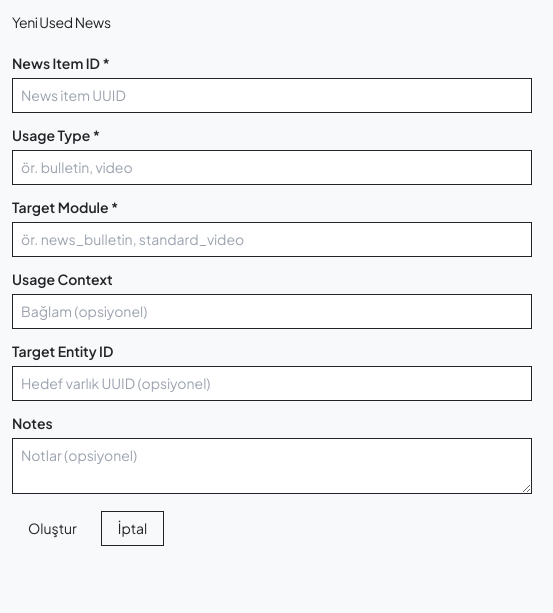
Test: UsedNews form smoke tests › shows usage_type required error when usage_type is empty
Type "some-news-item-id" into the field with placeholder "News item UUID". click: (272, 96)
box: x1=12 y1=78 x2=532 y2=113
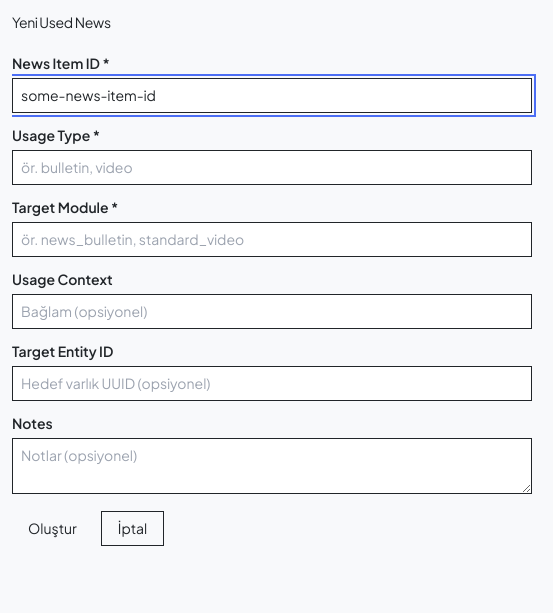
Click the button "Oluştur". click: (52, 528)
box: x1=12 y1=511 x2=93 y2=546
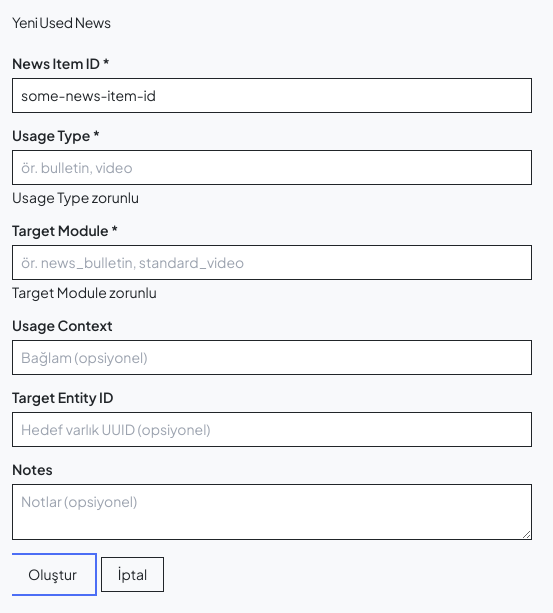
Expected: the text "Usage Type zorunlu" is shown, x1=12 y1=188 x2=139 y2=206
